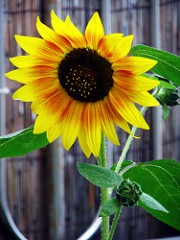flower: (1, 5, 167, 161)
